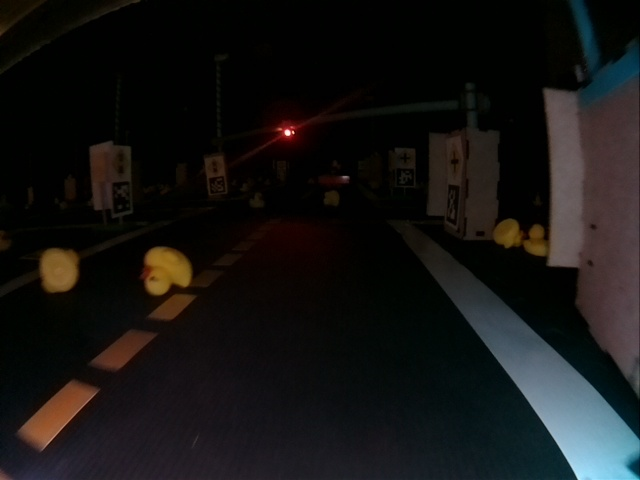Duckie: (141, 248, 192, 296), (39, 250, 79, 292), (524, 224, 549, 254), (494, 218, 517, 246), (250, 193, 265, 208), (323, 191, 339, 205)
Intersection sign: (448, 144, 462, 177), (398, 150, 414, 167)
QR code: (110, 181, 131, 217), (445, 184, 460, 228), (208, 176, 225, 195), (396, 169, 414, 186)
Signal sign: (112, 148, 130, 177), (207, 159, 223, 175)
Traffic light: (282, 126, 295, 138)
